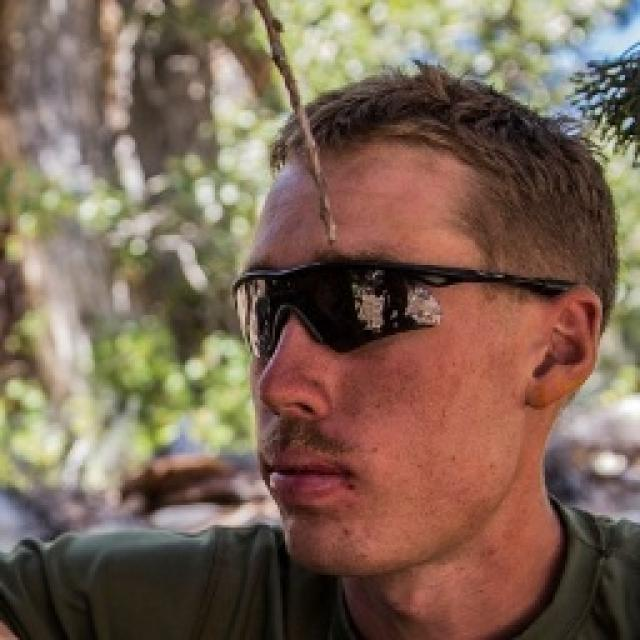glasses: (208, 250, 596, 357)
